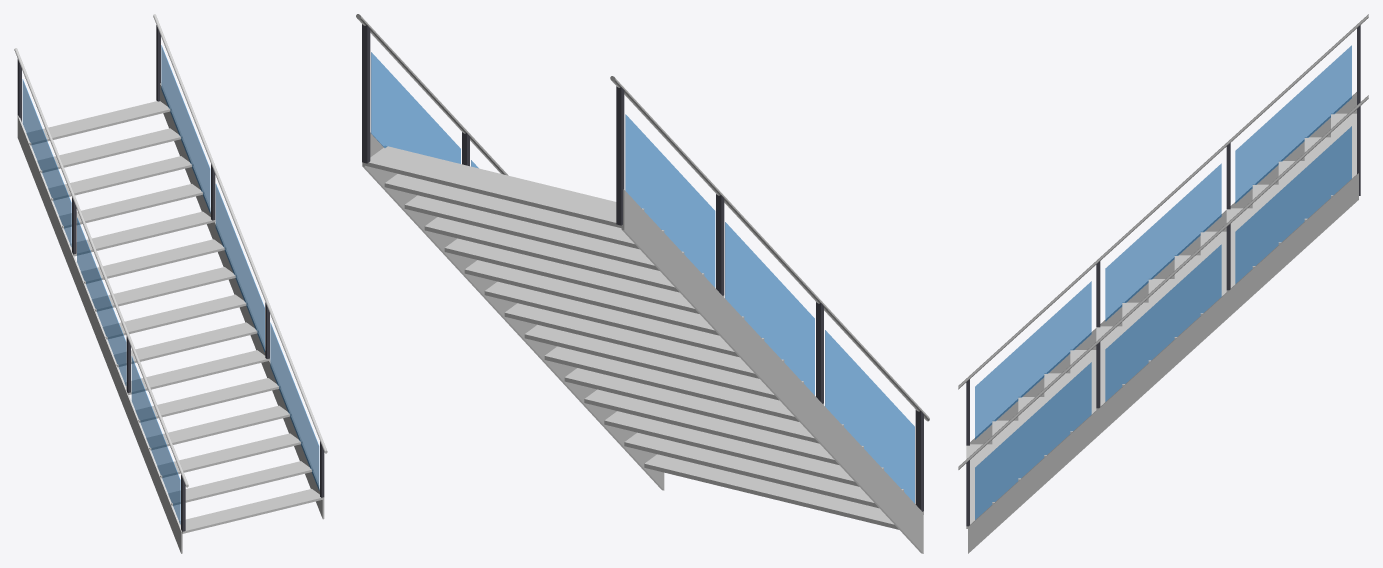
The model's file is glassPanelStairs.glb.
The picture shows the model from 3 angles, left to right: view 1: azimuth 30°, elevation 25°; view 2: azimuth 150°, elevation 25°; view 3: azimuth 270°, elevation 25°; orthographic projection. The views are drawn at different scales.
Visible parts, largest first — view 1: Stair_glassPanels; view 2: Stair_glassPanels; view 3: Stair_glassPanels.
Boxes of the visible parts, x1,y1,x2,y2 form: Stair_glassPanels: (14, 14, 327, 553); Stair_glassPanels: (356, 14, 929, 553); Stair_glassPanels: (958, 14, 1368, 553).
Size of what is drawn, in the model's own units: 2.02 by 5.17 by 4.2.
2 materials, 2 textured.
